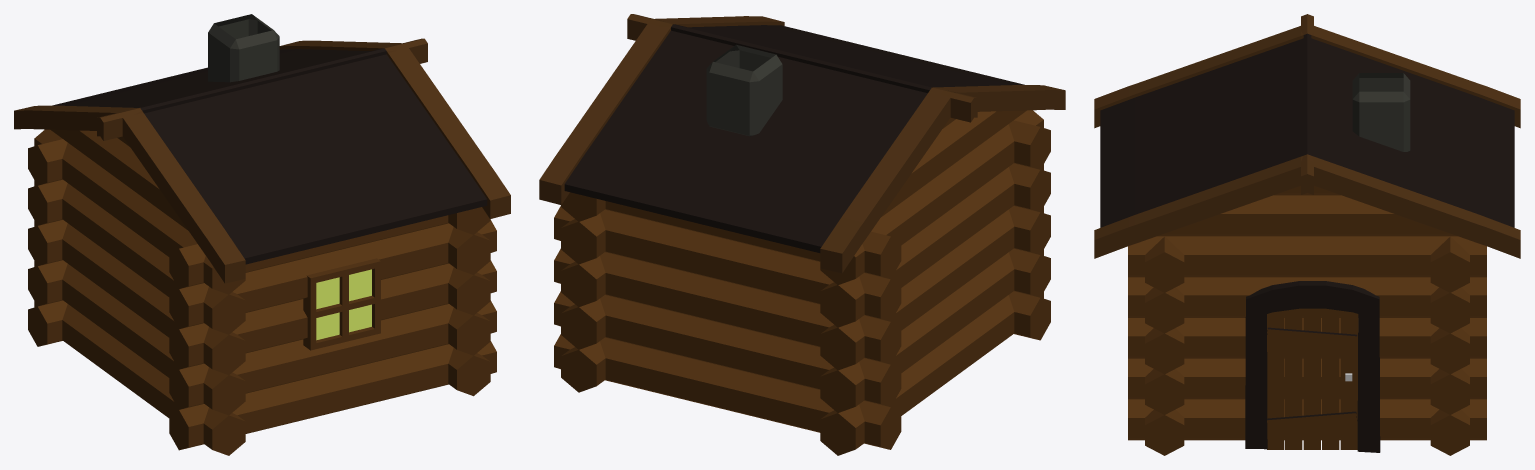
The model's file is house.obj.
The picture shows the model from 3 angles, left to right: view 1: azimuth 30°, elevation 25°; view 2: azimuth 150°, elevation 25°; view 3: azimuth 270°, elevation 25°; orthographic projection. The views are drawn at different scales.
Visible parts, largest first — view 1: Cube.001_Cube.002, Cube.002_Cube.004, Cube.003_Cube.005, Cube.017_Cube.021, Cube.018_Cube.022, Plane.001_Plane.038; view 2: Cube.001_Cube.002, Cube.002_Cube.004, Cube.003_Cube.005, Cube.017_Cube.021; view 3: Cube.001_Cube.002, Cube.003_Cube.005, Cube.015_Cube.018, Cube.002_Cube.004, Cube.017_Cube.021.
Part boxes in pixels (<box>): Cube.001_Cube.002: <box>14,38,510,283</box>; Cube.002_Cube.004: <box>28,139,496,450</box>; Cube.003_Cube.005: <box>34,48,490,455</box>; Cube.017_Cube.021: <box>208,14,279,82</box>; Cube.018_Cube.022: <box>303,258,380,350</box>; Plane.001_Plane.038: <box>316,269,371,340</box>; Cube.001_Cube.002: <box>539,14,1065,273</box>; Cube.002_Cube.004: <box>554,120,1050,449</box>; Cube.003_Cube.005: <box>561,24,1043,455</box>; Cube.017_Cube.021: <box>706,44,782,136</box>; Cube.001_Cube.002: <box>1094,14,1520,258</box>; Cube.003_Cube.005: <box>1128,185,1486,440</box>; Cube.015_Cube.018: <box>1245,281,1380,452</box>; Cube.002_Cube.004: <box>1145,236,1469,455</box>; Cube.017_Cube.021: <box>1352,73,1410,151</box>.
Bounding box in the file's own units: 3.21 × 2.89 × 3.61.
